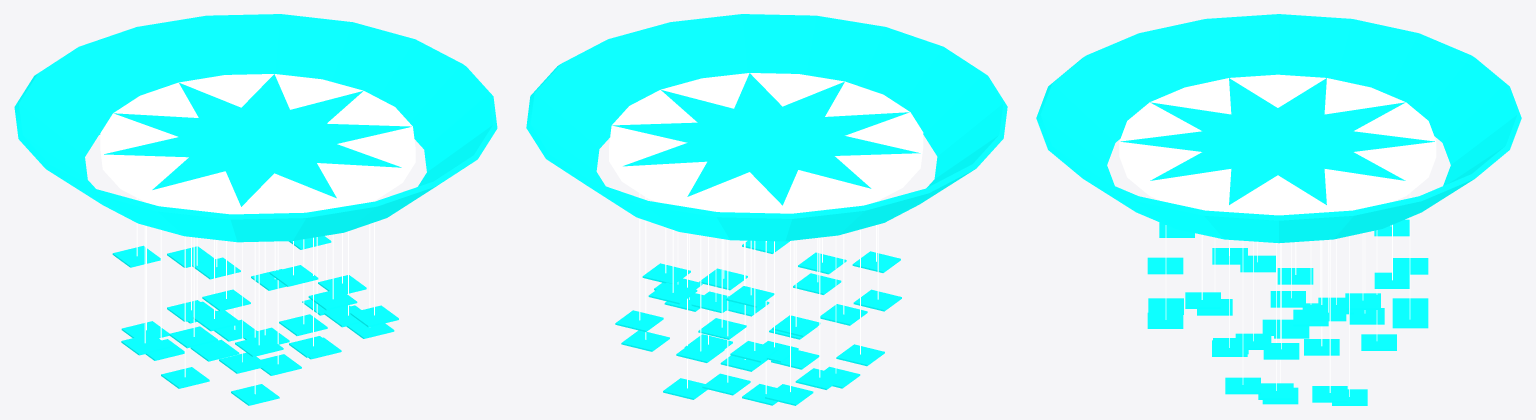
Rendered from Chandelier02_Anim.glb.
3 renders of one model, left to right at view 1: azimuth 30°, elevation 25°; view 2: azimuth 150°, elevation 25°; view 3: azimuth 270°, elevation 25°, orthographic.
Parts seen in each view (by area): view 1: shop_Media1; view 2: shop_Media1; view 3: shop_Media1.
Boxes of the visible parts, x1,y1,x2,y2 form: shop_Media1: (14, 14, 497, 405); shop_Media1: (526, 14, 1007, 405); shop_Media1: (1036, 14, 1521, 405).
Size of the model in its own units: 16.35 by 10.48 by 16.35.
